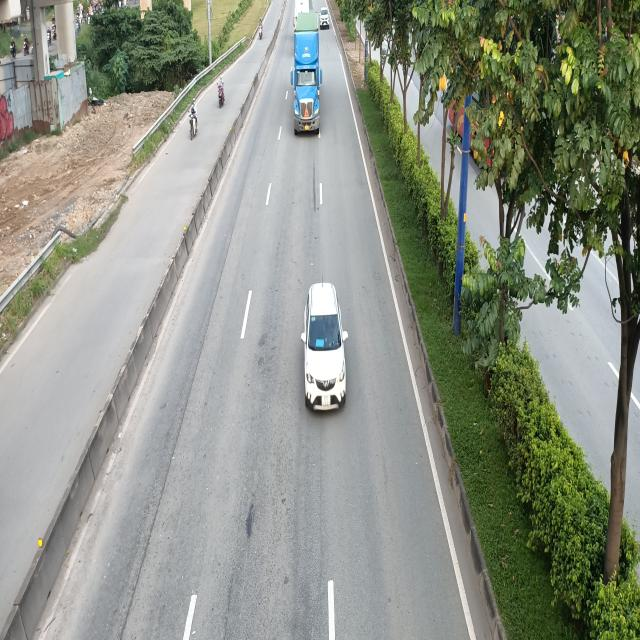car: (305, 284, 350, 414)
container: (289, 13, 321, 134)
